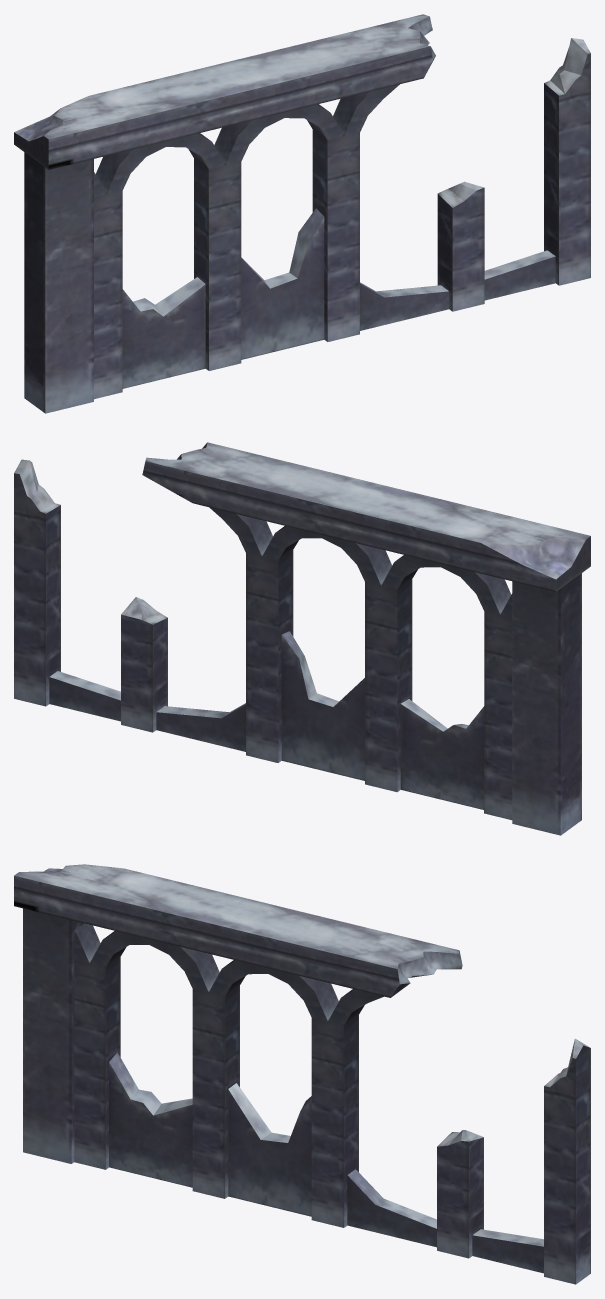
The model's file is yw_wanglingzhita_cuiqiang02.FBX.
3 renders of one model, top to bottom at view 1: azimuth 30°, elevation 25°; view 2: azimuth 150°, elevation 25°; view 3: azimuth 330°, elevation 25°, orthographic.
Parts seen in each view (by area): view 1: yw_wanglingzhita_cuiqiang02; view 2: yw_wanglingzhita_cuiqiang02; view 3: yw_wanglingzhita_cuiqiang02.
Part boxes in pixels (box(x1,y1,x2,y2)): yw_wanglingzhita_cuiqiang02: box(14, 14, 590, 413); yw_wanglingzhita_cuiqiang02: box(14, 442, 590, 835); yw_wanglingzhita_cuiqiang02: box(14, 864, 590, 1284).
Size of the model in its own units: 908 by 440 by 99.06.
